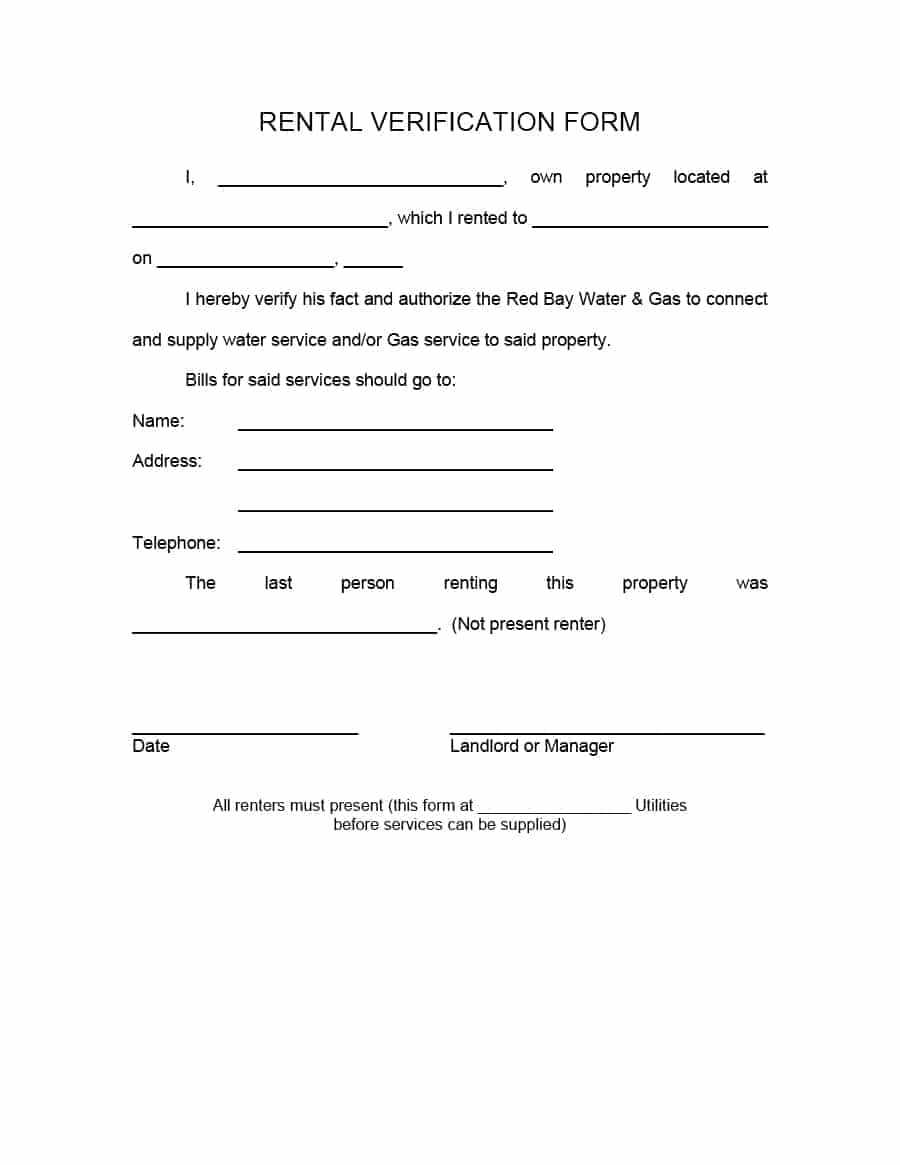textline: (444, 701, 768, 740), (231, 398, 555, 436), (127, 603, 436, 639), (233, 444, 555, 476), (121, 698, 363, 738), (231, 487, 556, 516), (231, 528, 556, 557), (212, 162, 504, 190), (156, 243, 404, 274), (128, 203, 388, 232), (531, 202, 772, 232), (157, 244, 333, 271), (477, 792, 634, 819), (342, 244, 403, 272)
